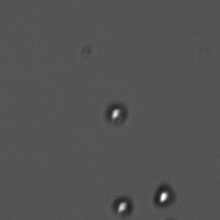Living Cell: (102, 99, 131, 129), (150, 183, 178, 209), (108, 196, 133, 218)
